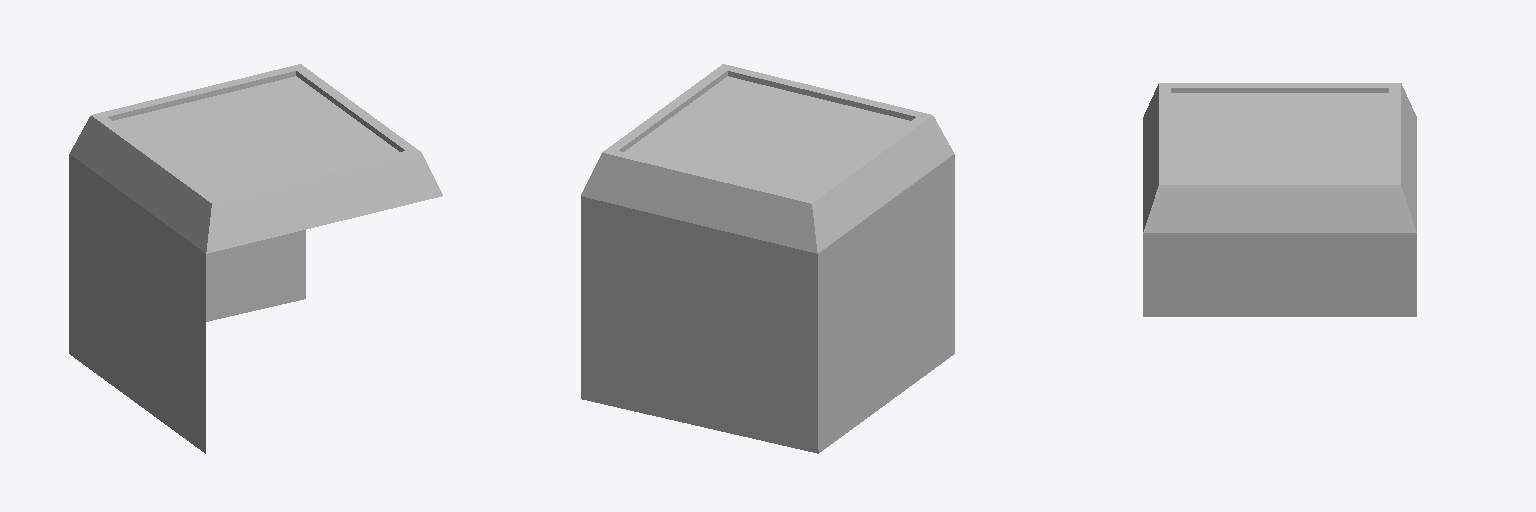
The model's file is MagosMapBoard_Mesh.obj.
The picture shows the model from 3 angles: view 1: azimuth 30°, elevation 25°; view 2: azimuth 150°, elevation 25°; view 3: azimuth 270°, elevation 25°; orthographic projection.
Visible parts, largest first — view 1: MagosMap; view 2: MagosMap; view 3: MagosMap.
Boxes of the visible parts, x1,y1,x2,y2 form: MagosMap: [69, 64, 442, 453]; MagosMap: [581, 64, 954, 453]; MagosMap: [1143, 83, 1416, 316].
Bounding box in the file's own units: 50.92 × 49.93 × 50.76.